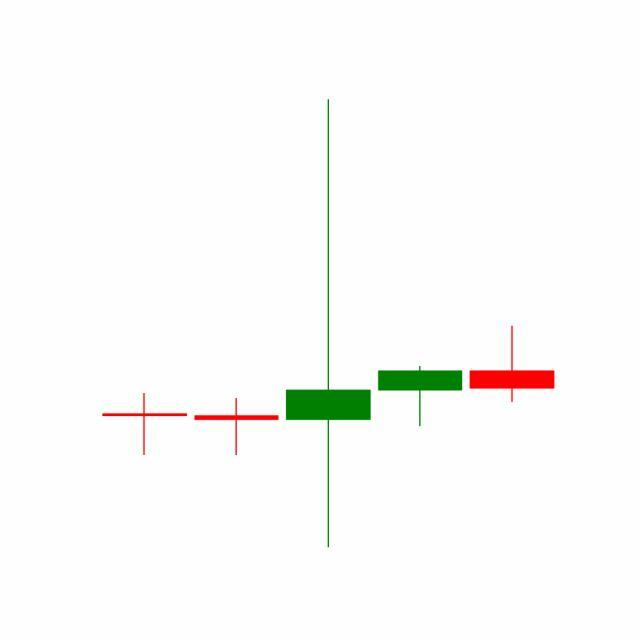Dragonfly Doji: (374, 366, 468, 428)
